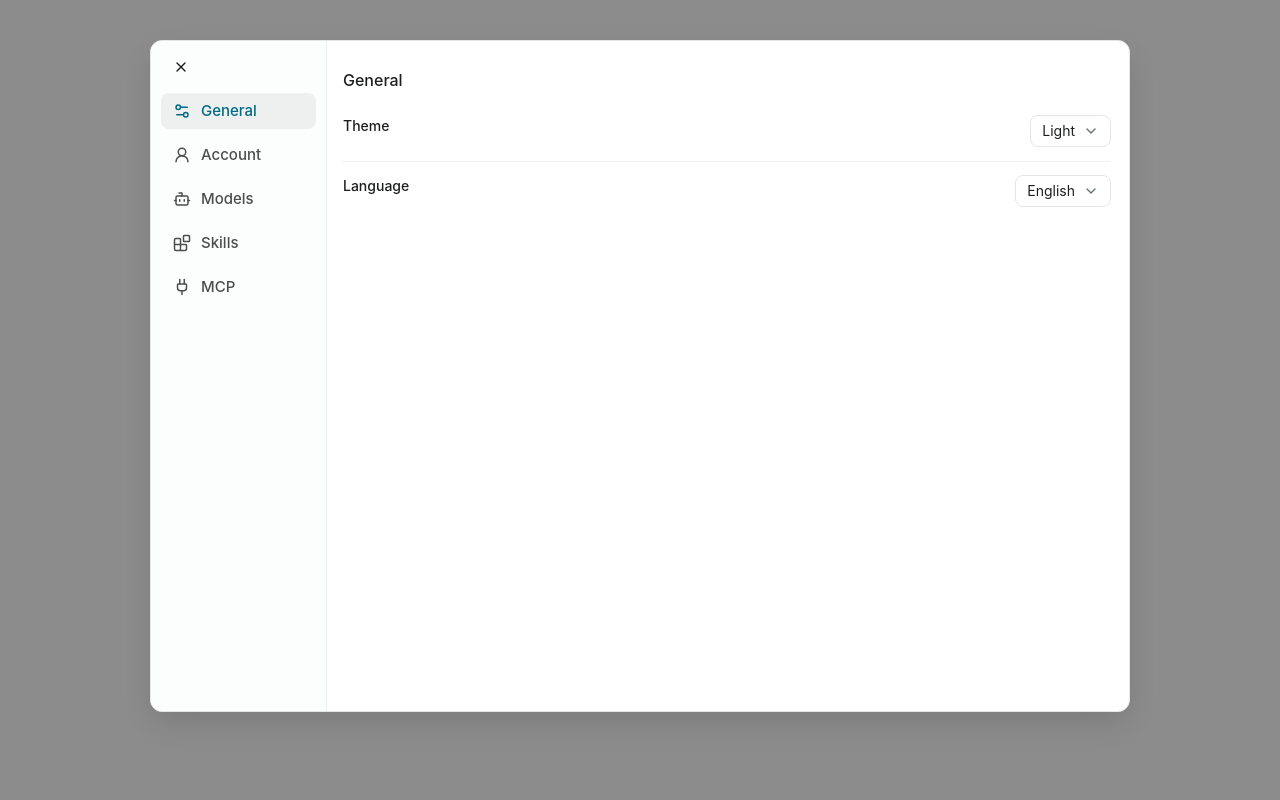
Scenario: switches the application language from Settings and persists the choice
Check: the text "English" is shown, box [1027,180,1075,203]
Click the dropdown named "Language".
click(1063, 191)  # box [1015,175,1111,207]
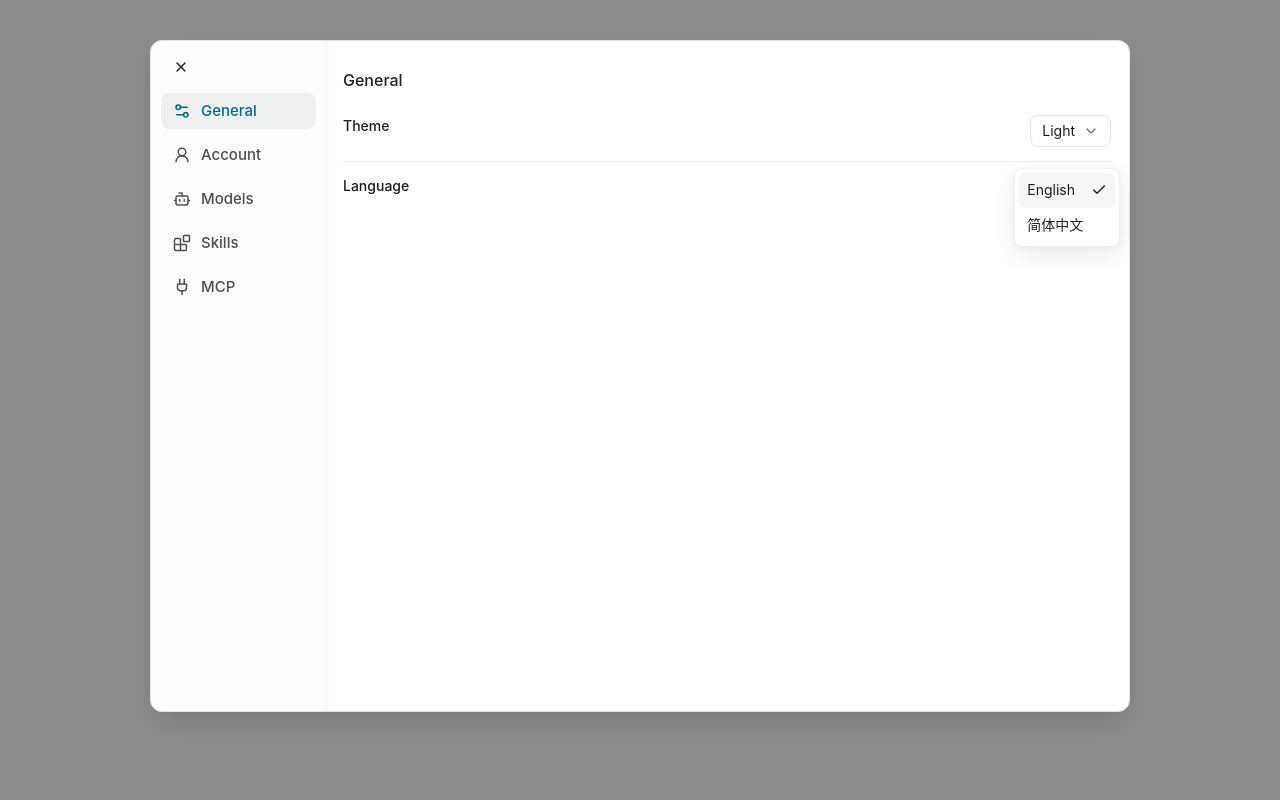
Press Enter in the option "简体中文", box [1027,216,1083,233]
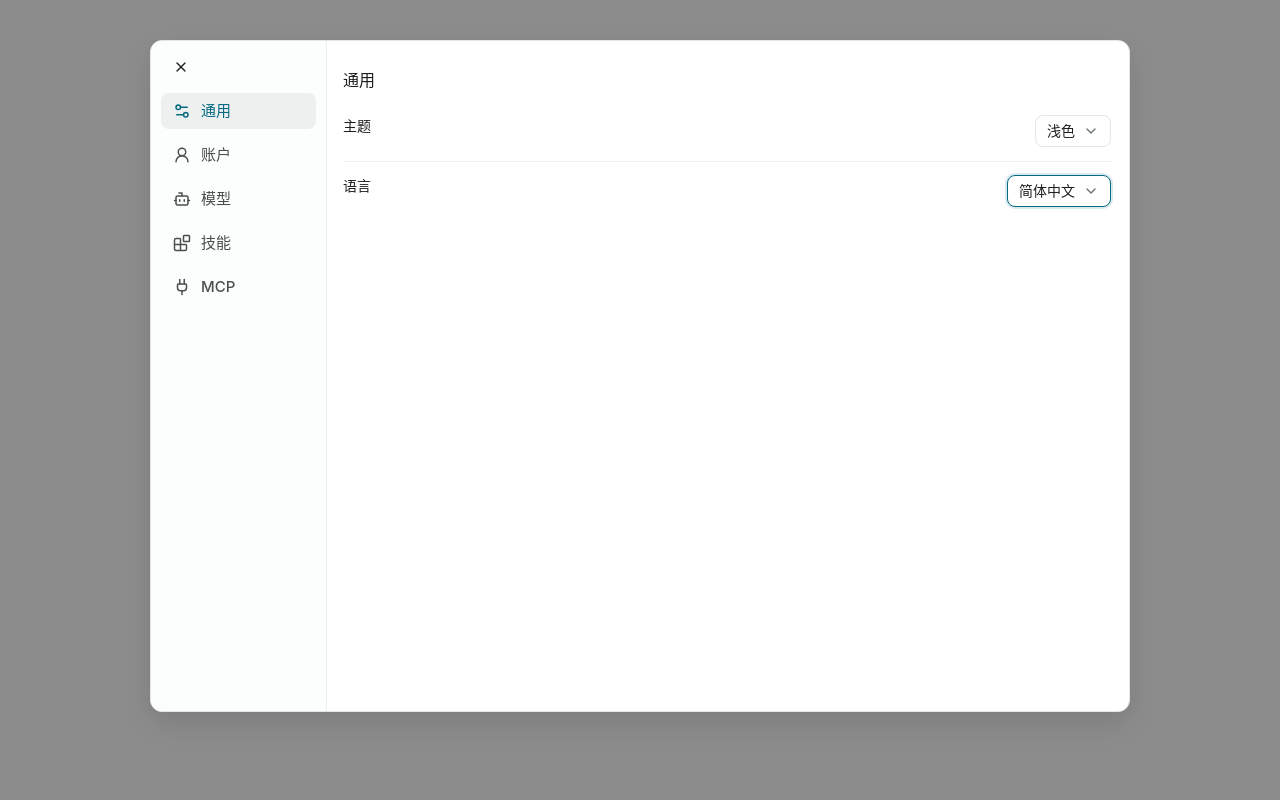
Check: the text "简体中文" is shown, box [1019,180,1075,203]
Check: the text "浅色" is shown, box [1047,120,1075,143]
